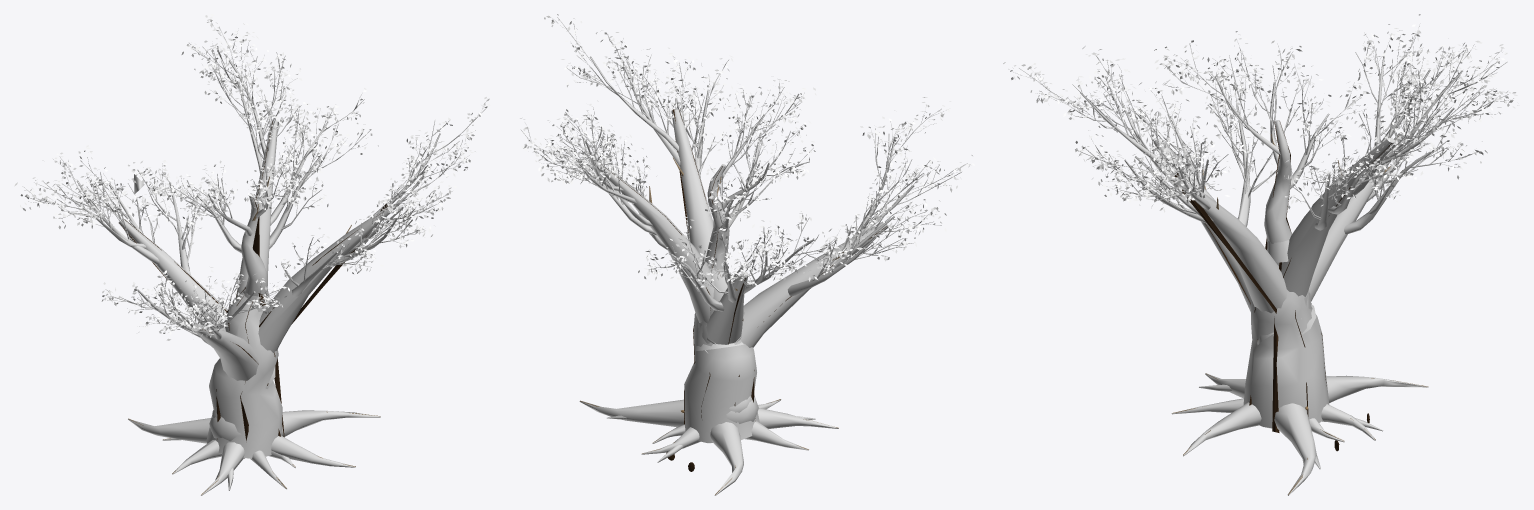
Rendered from ancient_tree_03_lod2.glb.
3 views of the same model, side by side, from view 1: azimuth 30°, elevation 25°; view 2: azimuth 150°, elevation 25°; view 3: azimuth 270°, elevation 25° (orthographic). The views are drawn at different scales.
Visible parts, largest first — view 1: AncientTreeWood_LOD2, AncientLeaves_LOD2, FineBranches_LOD2, DirectedBarkGrooves_LOD2; view 2: AncientTreeWood_LOD2, AncientLeaves_LOD2, FineBranches_LOD2, DirectedBarkGrooves_LOD2; view 3: AncientTreeWood_LOD2, AncientLeaves_LOD2, FineBranches_LOD2, DirectedBarkGrooves_LOD2.
Part boxes in pixels (<box>): AncientTreeWood_LOD2: <box>26,27,487,495</box>; AncientLeaves_LOD2: <box>14,14,490,340</box>; FineBranches_LOD2: <box>23,22,487,335</box>; DirectedBarkGrooves_LOD2: <box>119,121,390,440</box>; AncientTreeWood_LOD2: <box>521,17,960,495</box>; AncientLeaves_LOD2: <box>520,14,974,287</box>; FineBranches_LOD2: <box>525,16,967,287</box>; DirectedBarkGrooves_LOD2: <box>601,109,886,424</box>; AncientTreeWood_LOD2: <box>1019,35,1508,495</box>; AncientLeaves_LOD2: <box>1003,14,1517,212</box>; FineBranches_LOD2: <box>1008,23,1513,209</box>; DirectedBarkGrooves_LOD2: <box>1155,121,1398,432</box>.
Size of the model in its own units: 24.31 by 22.41 by 24.66.
